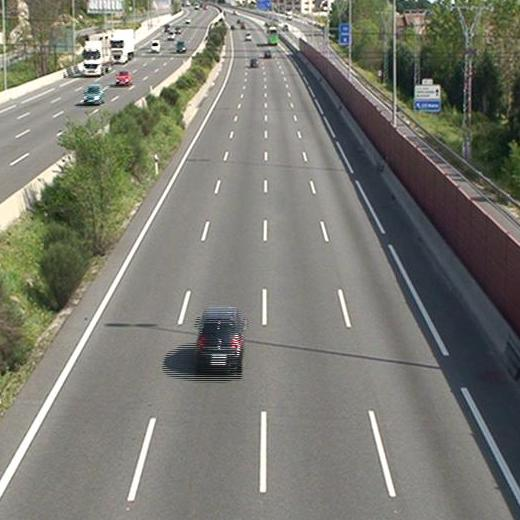bus: (268, 27, 279, 45)
car: (197, 309, 243, 373), (249, 58, 260, 69), (263, 49, 273, 58)
